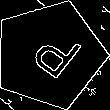P_SW: (18, 23, 81, 86)
